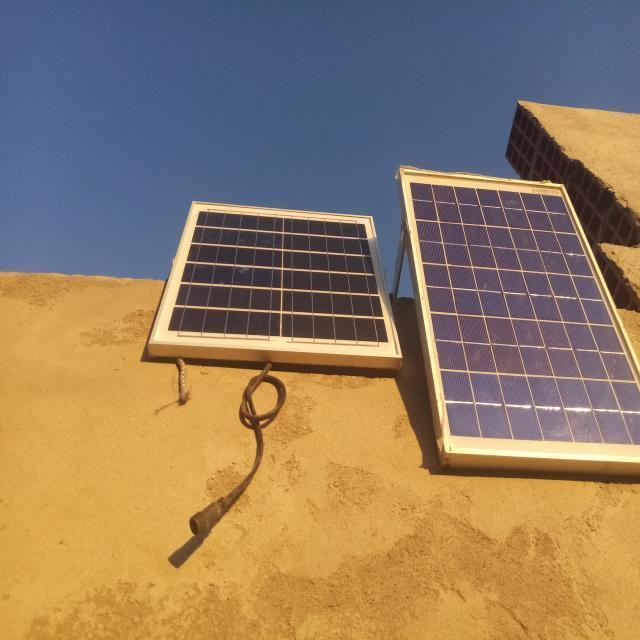Normal Solar Panel: (402, 166, 640, 457), (152, 201, 394, 355)
